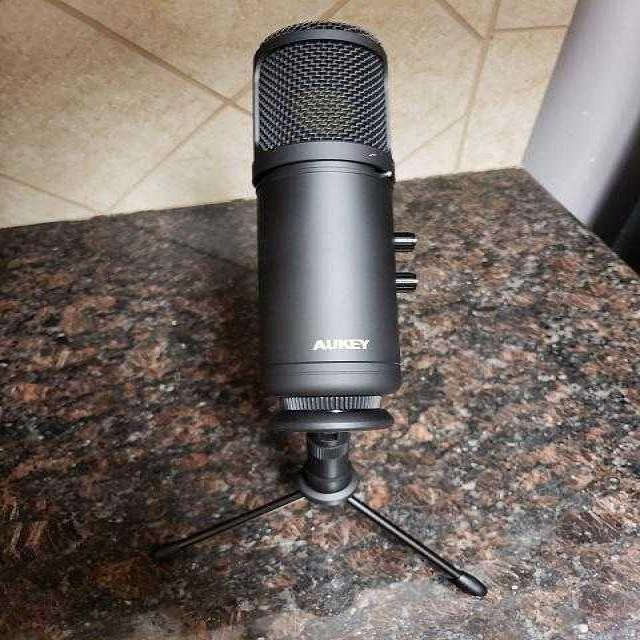microphone: (250, 23, 407, 420)
